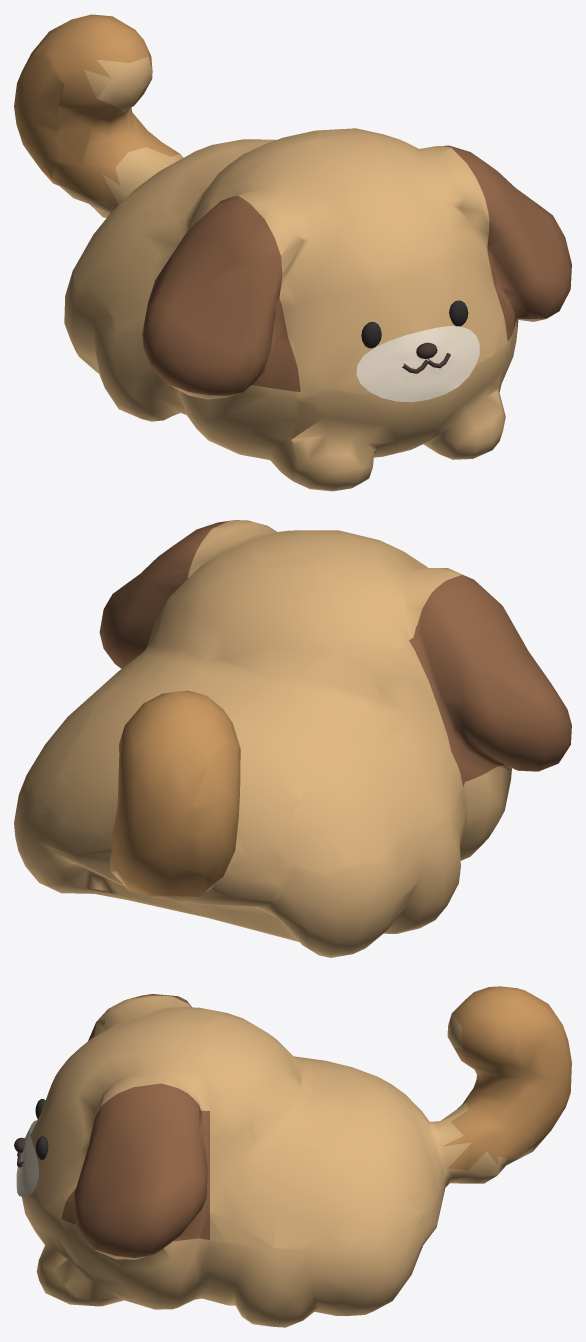
Rendered from dog.glb.
The picture shows the model from 3 angles, top to bottom: view 1: azimuth 30°, elevation 25°; view 2: azimuth 150°, elevation 25°; view 3: azimuth 270°, elevation 25°; orthographic projection. The views are drawn at different scales.
Visible parts, largest first — view 1: pet-body, pet-ears, pet-tail, pet-markings; view 2: pet-body, pet-ears, pet-tail; view 3: pet-body, pet-ears, pet-tail, pet-markings.
Part boxes in pixels (x1,y1,x2,y2): pet-body: [56, 57, 559, 491]; pet-ears: [142, 145, 571, 395]; pet-tail: [14, 14, 179, 207]; pet-markings: [356, 326, 479, 402]; pet-body: [14, 520, 545, 957]; pet-ears: [99, 521, 571, 786]; pet-tail: [110, 690, 240, 896]; pet-body: [22, 995, 534, 1327]; pet-ears: [61, 994, 209, 1257]; pet-tail: [443, 986, 571, 1170]; pet-markings: [16, 1120, 38, 1196].
Size of the model in its own units: 0.84 by 0.5489 by 1.1.
